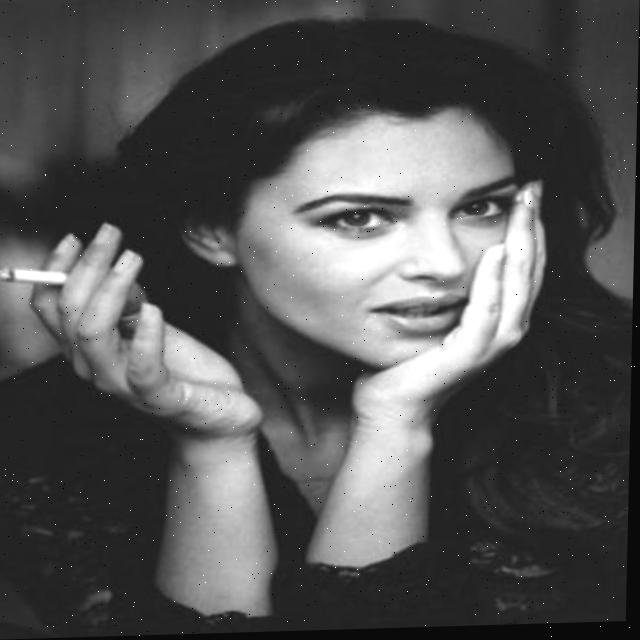cigarette: (0, 266, 71, 288)
